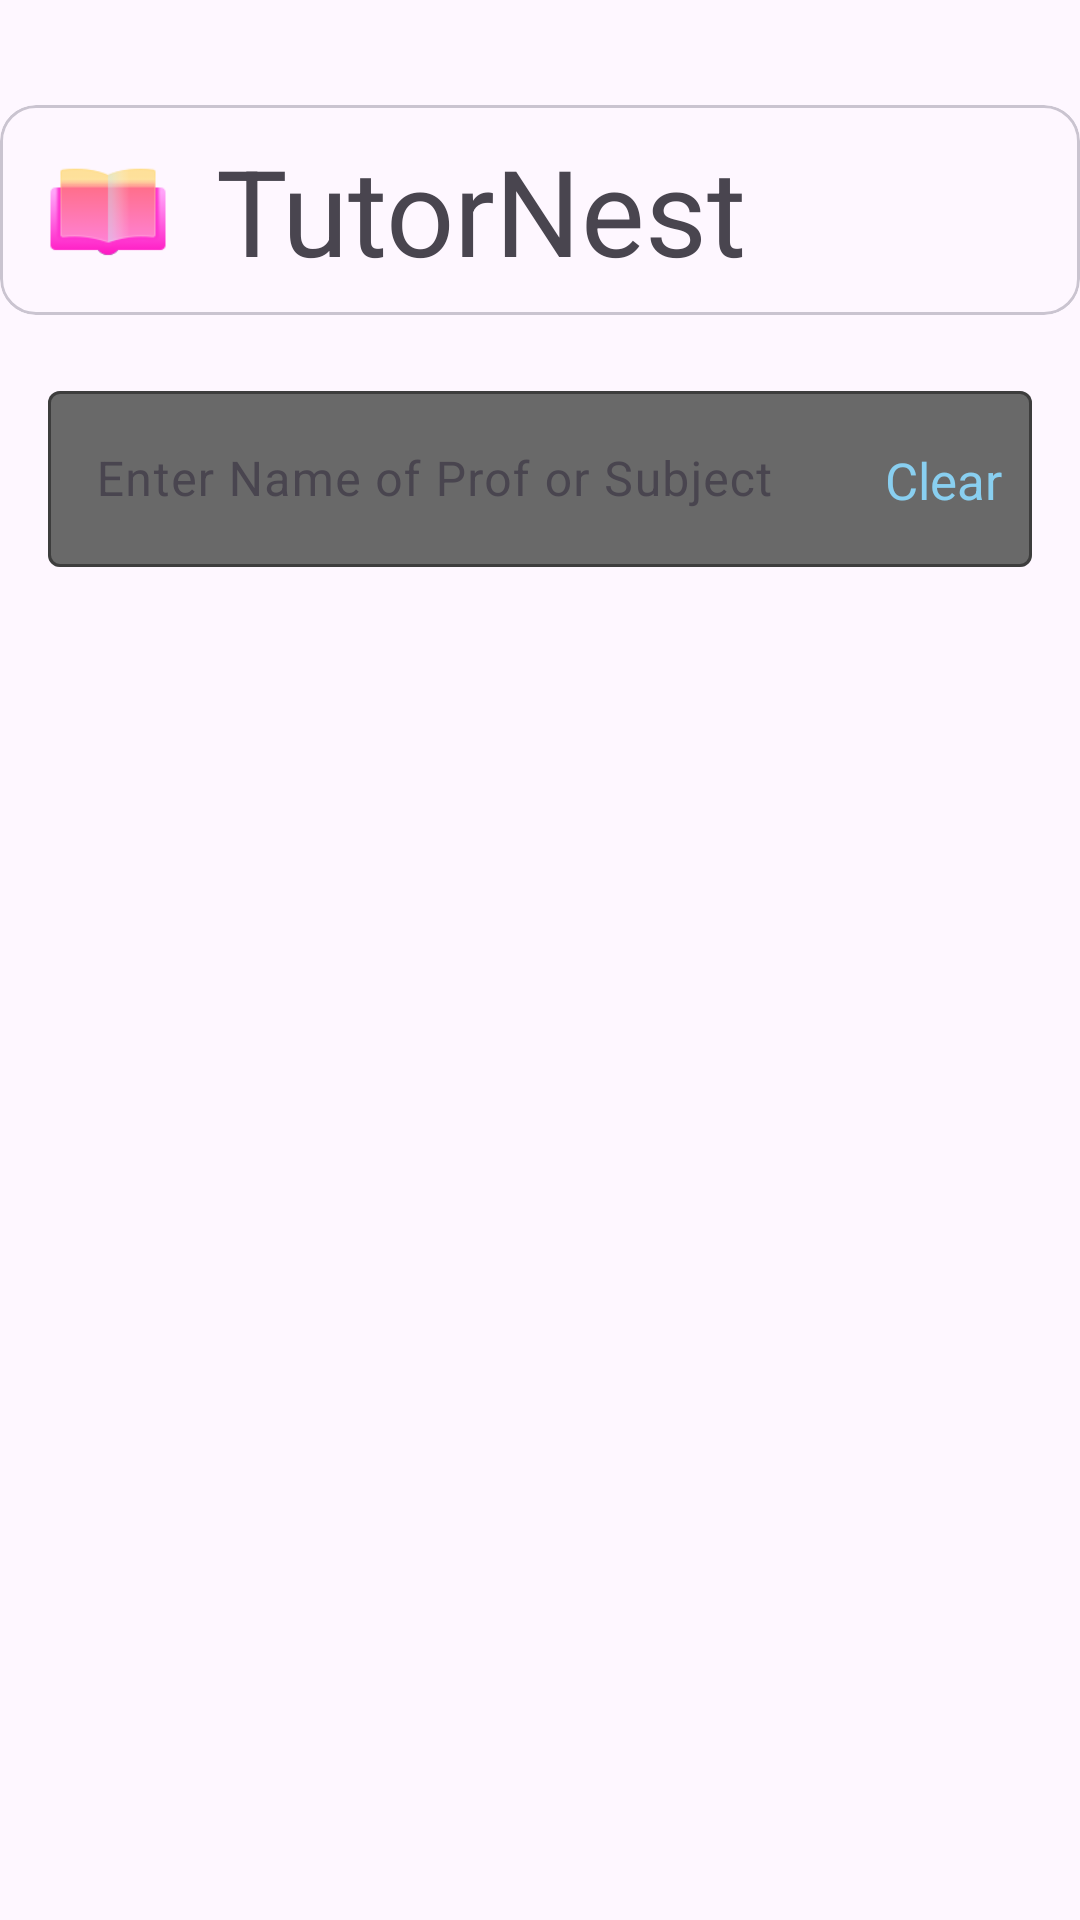

Locate icon controls on the screen. Image size 1080w x 1920h, boxes as (x1, y1, x2, y2).
open book: (50, 168, 166, 255)
